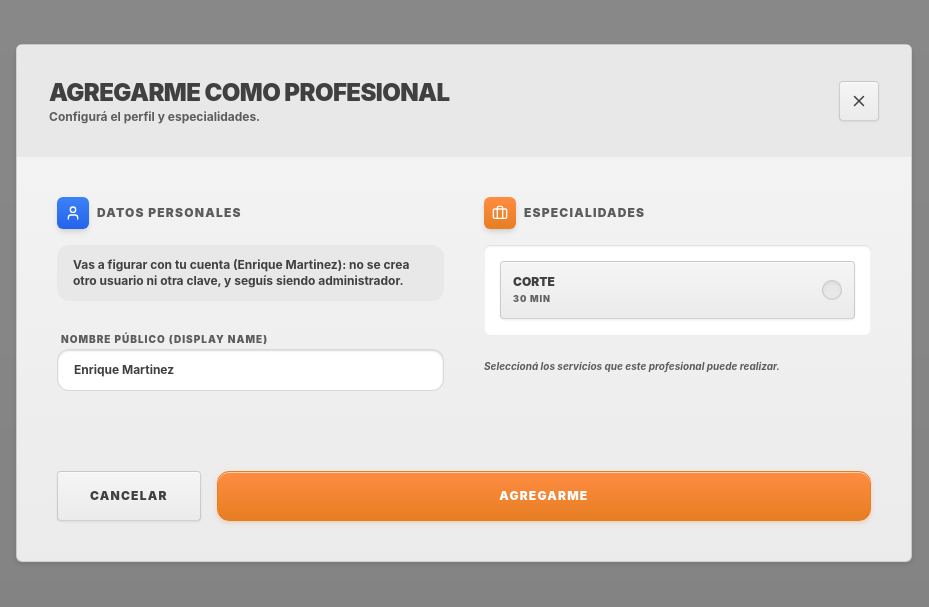
StaffFormModal: errores por campo › un 422 del servidor en service_ids dice que elegir, sin texto crudo
What coordinates should you click on to do the following:
click the button "Agregarme"
I would click on:
 (544, 496)
Its box is [217,471,871,521].
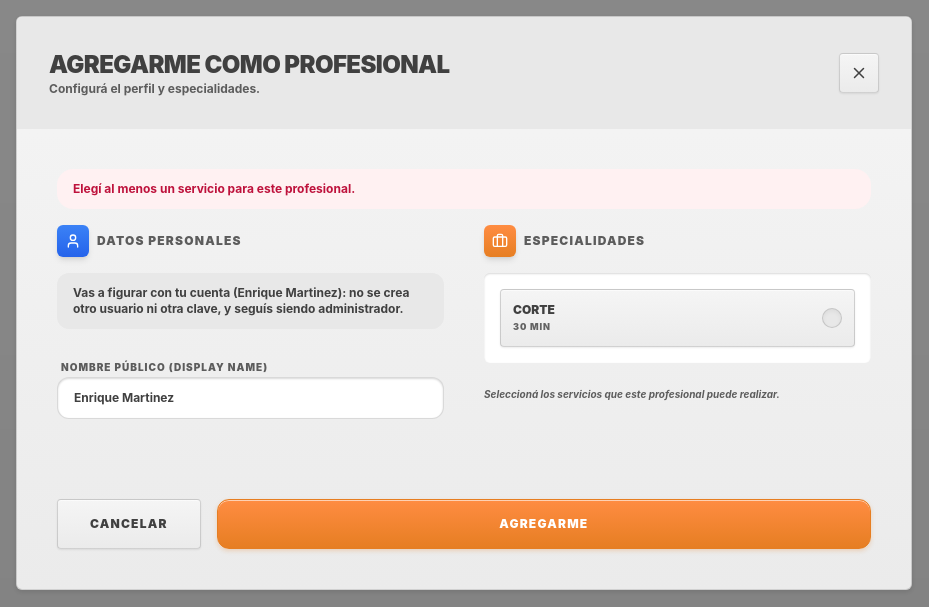
Expected: the message does not show "List should", [57,169,871,209]
Now the message shows "Elegí al menos un servicio", box [73,181,355,196]
